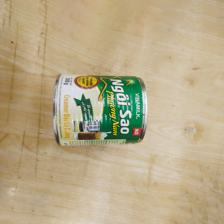NSPN_Lon: (52, 72, 150, 147)
